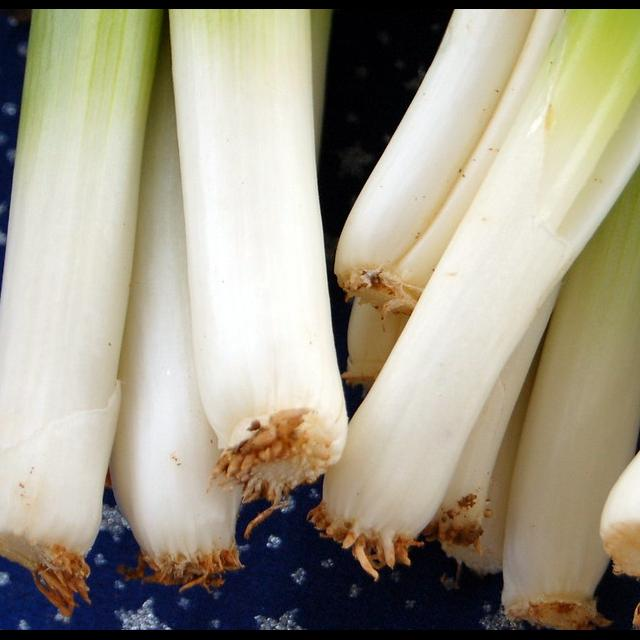green_onion: (314, 12, 640, 576), (0, 10, 160, 616), (170, 10, 348, 534), (334, 10, 563, 387), (110, 34, 240, 587), (432, 290, 557, 554)
